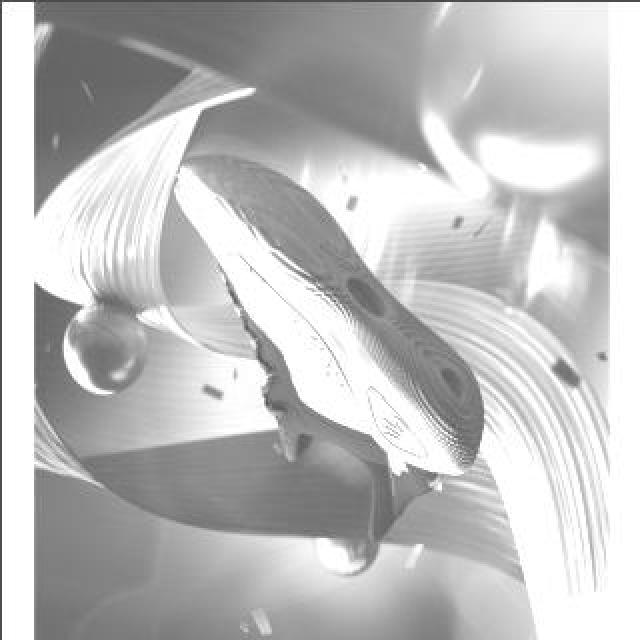shoe: (175, 155, 483, 539)
